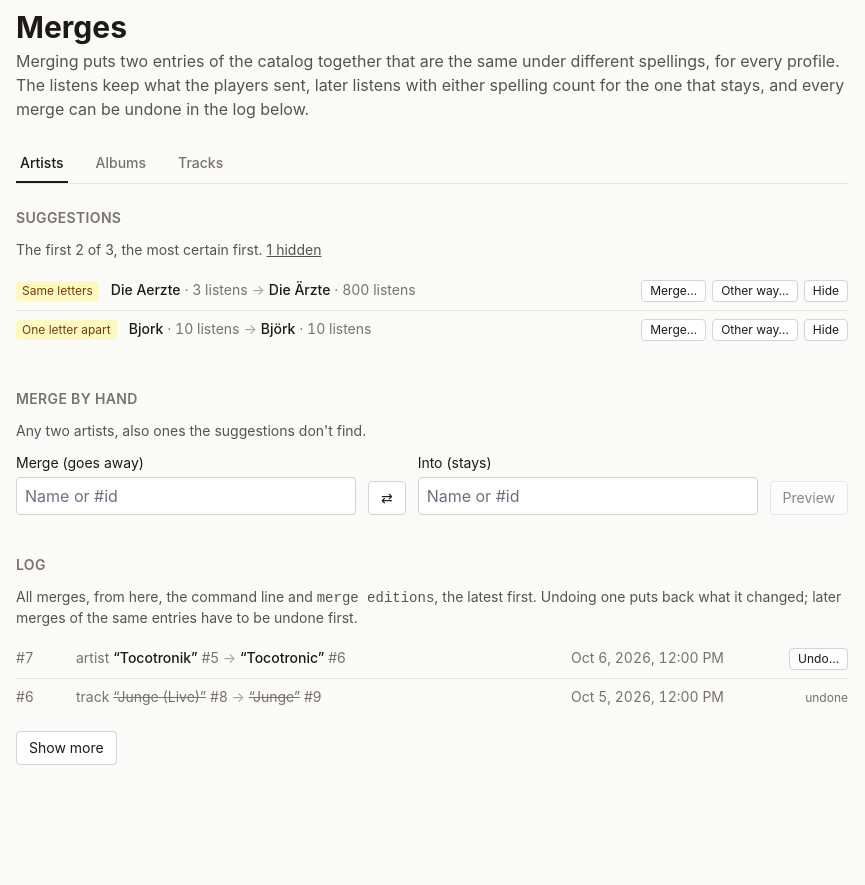
Test: merges page › shows errors of a preview and of a merge
Click the button "Merge…" in the row of "· 800 listens" at {"x": 674, "y": 291}, box [641,280,706,302]
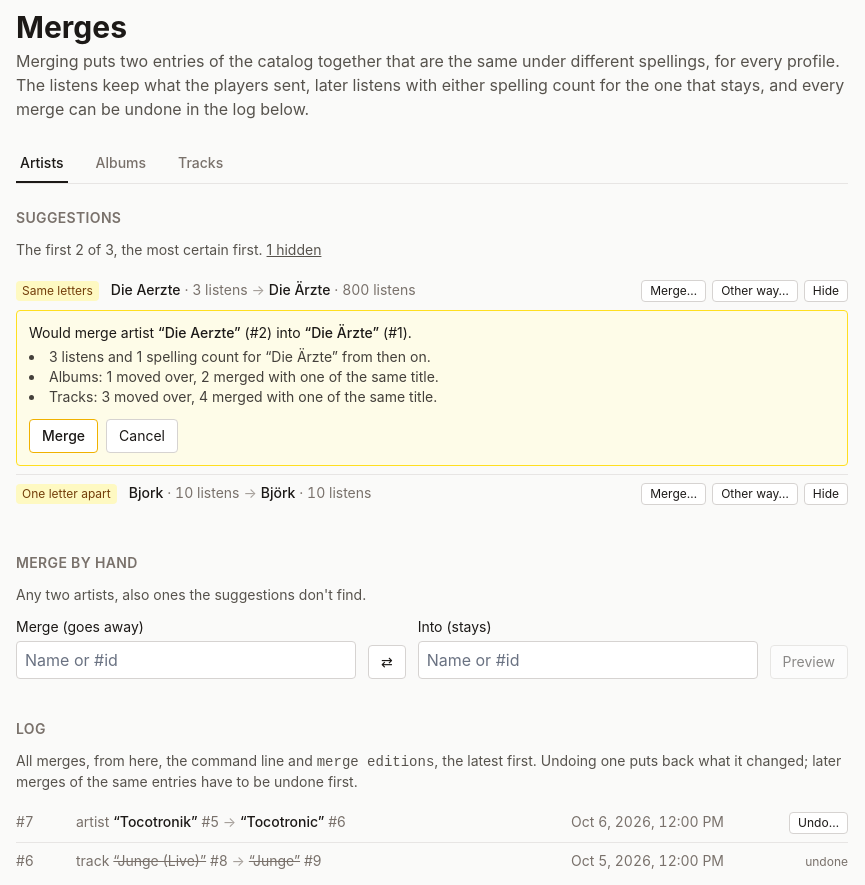
Click the button "Merge" at {"x": 64, "y": 436}, box [29,419,98,453]
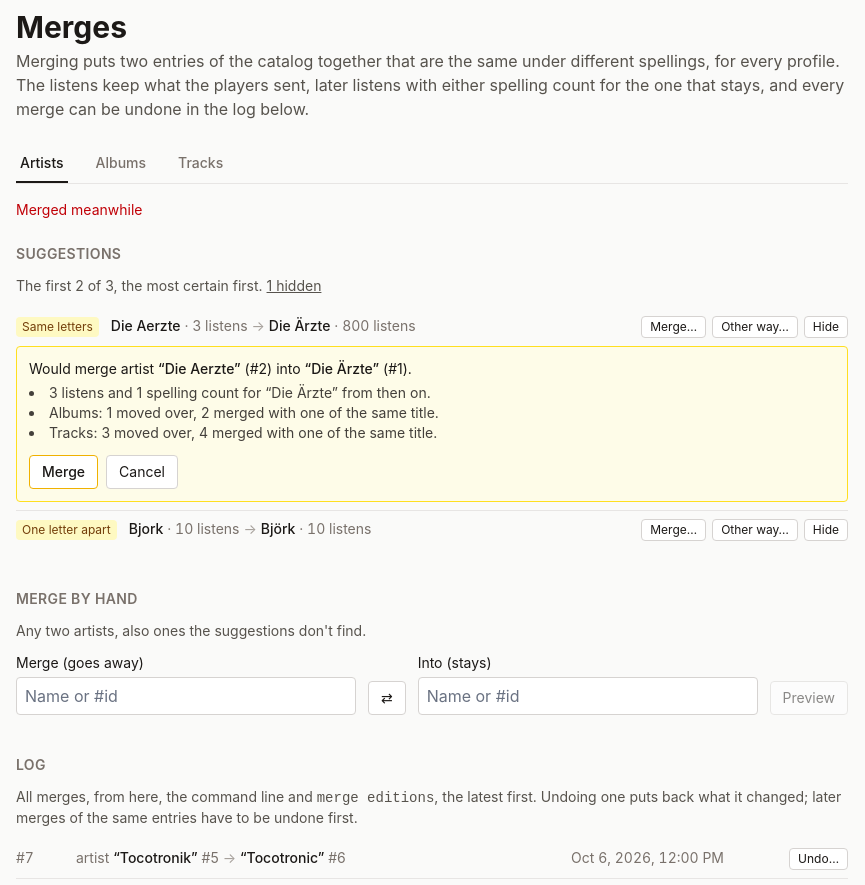
Result: the message reads "Merged meanwhile" at [16,201,142,218]
Click the button "Merge…" in the row of "· 800 listens" at {"x": 674, "y": 327}, box [641,316,706,338]
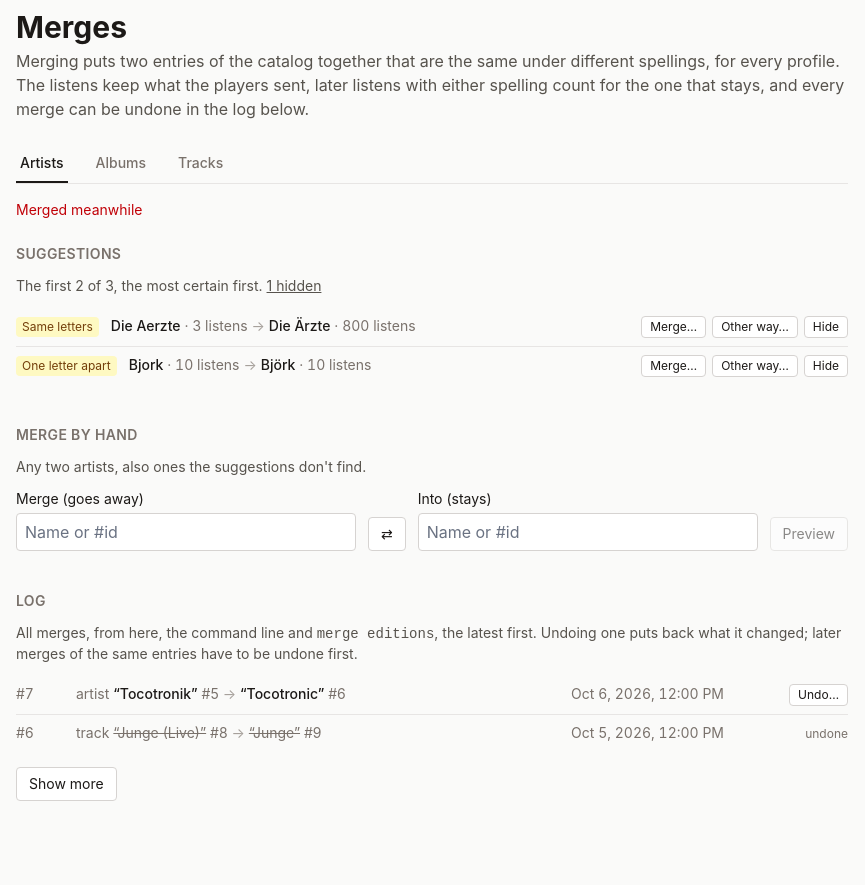
Result: the message reads "Merged meanwhile" at [16,201,142,218]
Result: the text "Would merge" is gone
